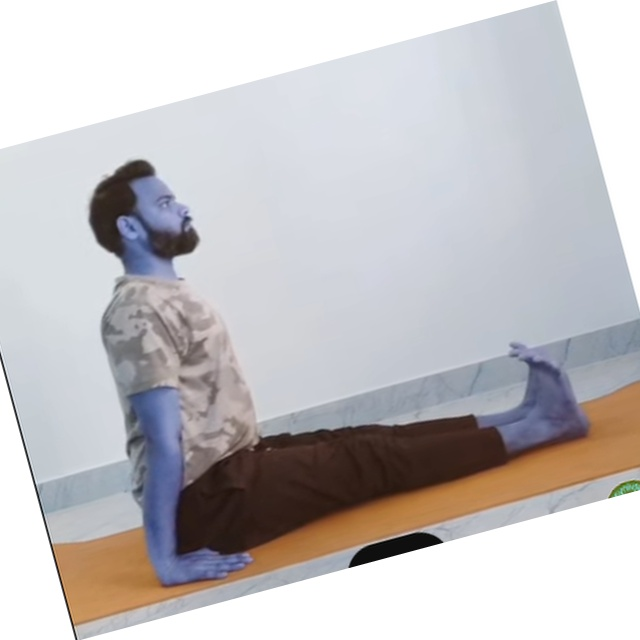Staff_Pose: (94, 157, 592, 587)
